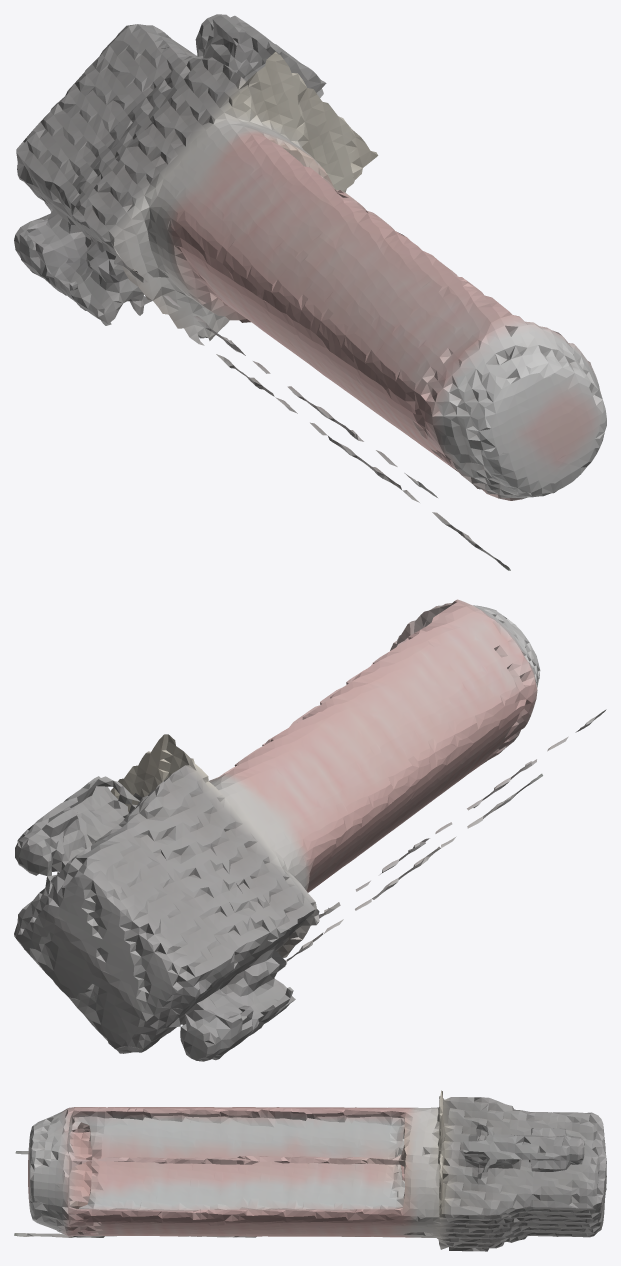
Rendered from entity-signal-light-4.glb.
3 views of the same model, one above another, from view 1: azimuth 30°, elevation 25°; view 2: azimuth 150°, elevation 25°; view 3: azimuth 270°, elevation 25° (orthographic). The views are drawn at different scales.
Visible parts, largest first — view 1: geometry_0; view 2: geometry_0; view 3: geometry_0.
Part boxes in pixels (bbox=[...]): geometry_0: bbox=[14, 14, 606, 570]; geometry_0: bbox=[14, 599, 606, 1061]; geometry_0: bbox=[14, 1090, 606, 1251].
Bounding box in the file's own units: 0.1575 × 0.1511 × 0.4464.
